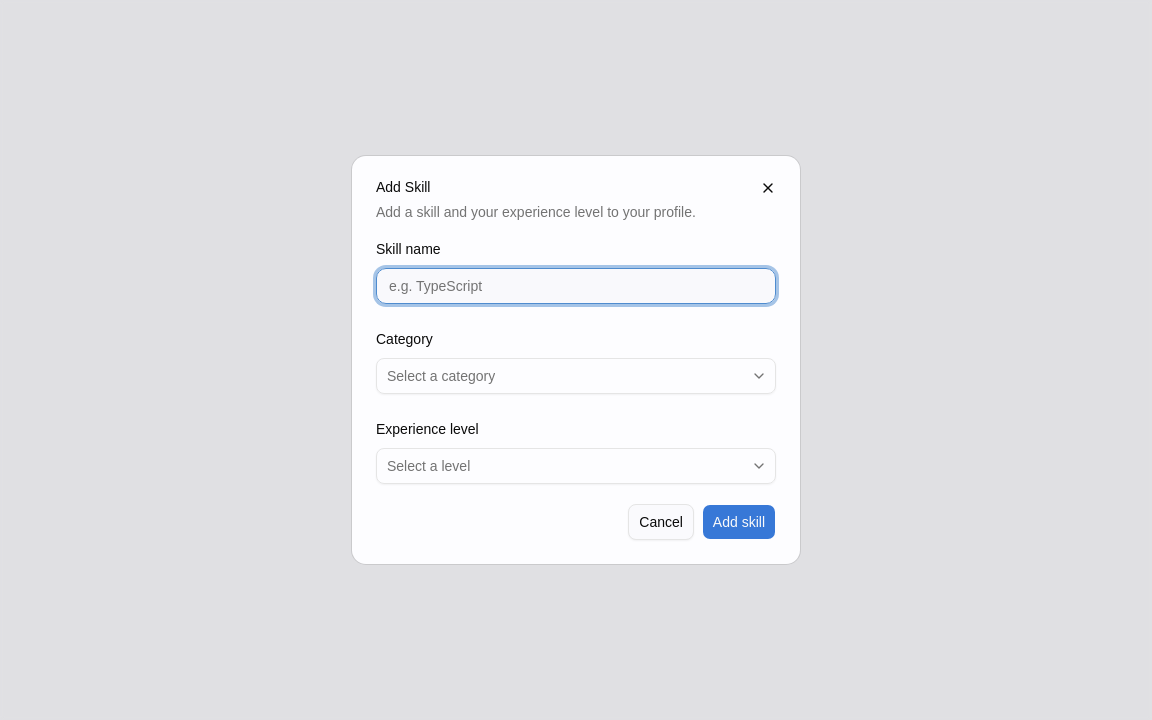
AddSkillsDialog › shows a validation error when submitting with an empty name
This screenshot has width=1152, height=720.
Click the button "Add skill": (739, 522) [702,504,776,540]
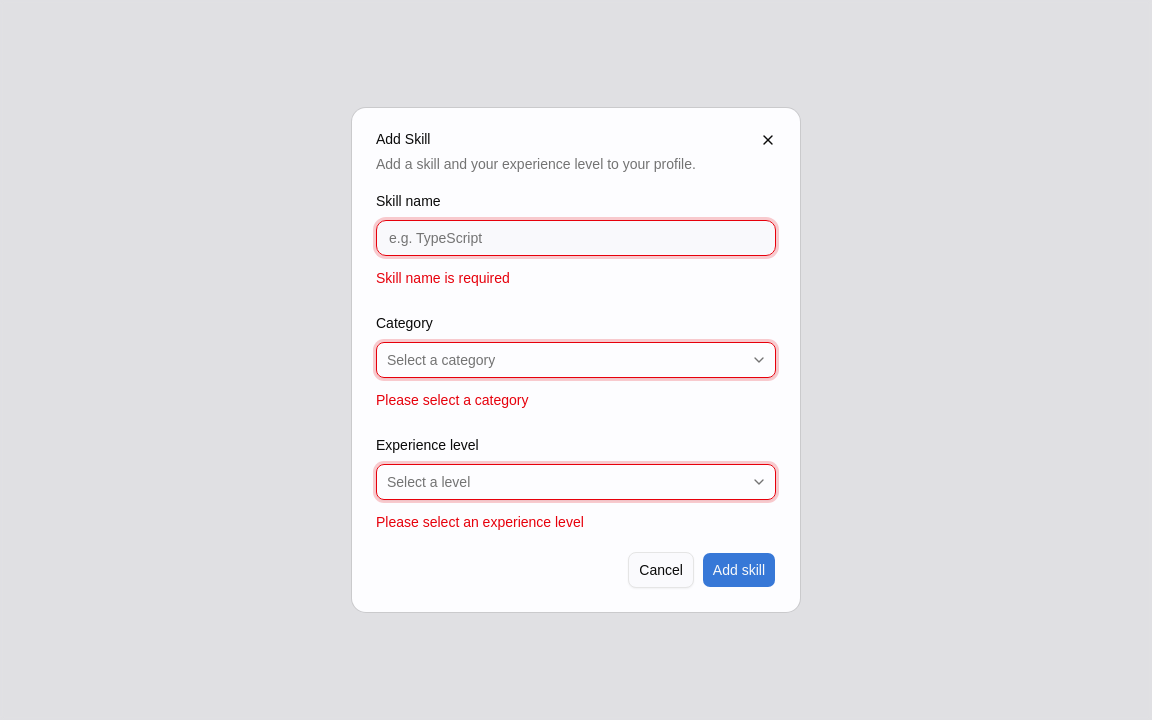
Expected: the text "Skill name is required" is shown, [376,270,510,286]
